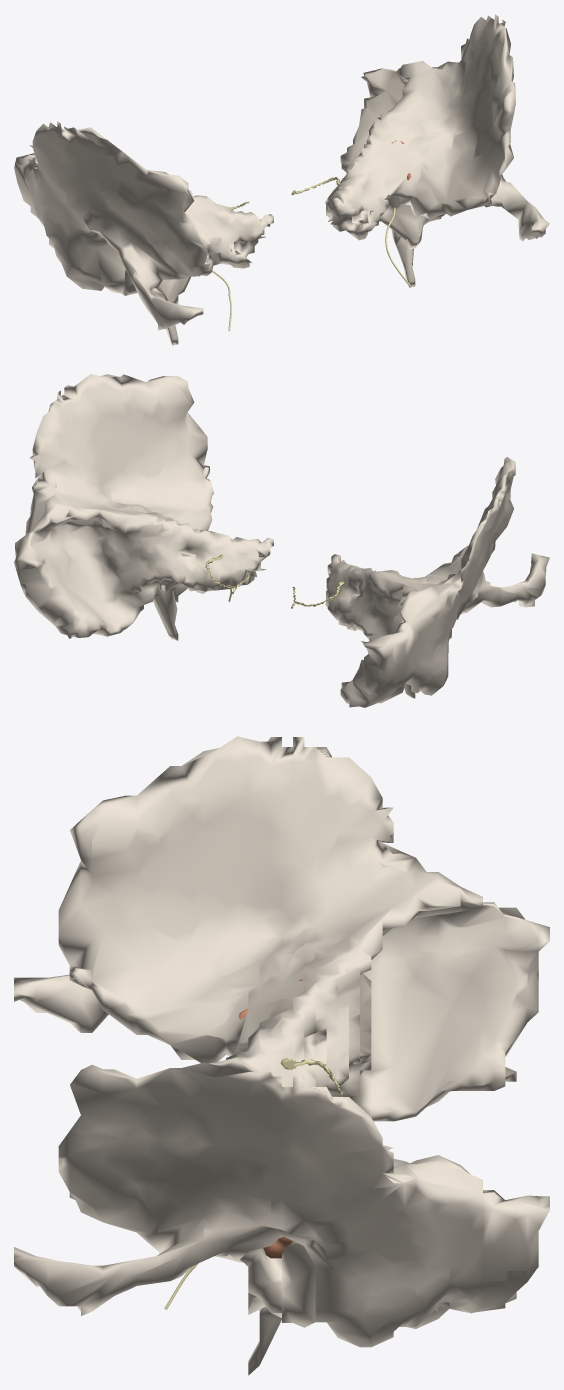
The model's file is telinga.glb.
3 renders of one model, top to bottom at view 1: azimuth 30°, elevation 25°; view 2: azimuth 150°, elevation 25°; view 3: azimuth 270°, elevation 25°, orthographic. The views are drawn at different scales.
Visible parts, largest first — view 1: Left temporal bone, Right temporal bone; view 2: Left temporal bone, Right temporal bone; view 3: Right temporal bone, Left temporal bone.
Boxes of the visible parts, x1=… form: Left temporal bone: x1=325, y1=14, x2=549, y2=287; Right temporal bone: x1=14, y1=121, x2=273, y2=345; Left temporal bone: x1=14, y1=374, x2=273, y2=640; Right temporal bone: x1=325, y1=457, x2=549, y2=707; Right temporal bone: x1=14, y1=736, x2=549, y2=1121; Left temporal bone: x1=14, y1=1057, x2=549, y2=1375.
Size of the model in its own units: 2 by 1.06 by 1.33.
